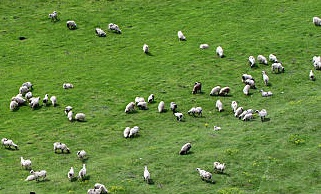sheep: (196, 166, 214, 186), (52, 142, 72, 155), (28, 95, 42, 112), (93, 25, 109, 39), (8, 100, 24, 114), (255, 108, 271, 122), (143, 164, 154, 184), (88, 182, 106, 194), (37, 168, 51, 183), (65, 18, 78, 34), (19, 80, 37, 91), (1, 138, 16, 151), (271, 62, 286, 75), (130, 126, 146, 138), (172, 110, 188, 122), (109, 22, 122, 36), (72, 110, 86, 123), (78, 165, 90, 180), (121, 124, 133, 139), (63, 105, 75, 120), (260, 71, 272, 86), (239, 74, 255, 85), (61, 82, 78, 92), (212, 99, 225, 112), (77, 149, 91, 161), (156, 100, 167, 115), (306, 68, 321, 79), (11, 96, 29, 105), (19, 157, 31, 170), (242, 111, 255, 123), (50, 11, 61, 25), (143, 42, 154, 56), (214, 160, 228, 171), (122, 103, 136, 114), (65, 167, 74, 183), (179, 142, 191, 154), (191, 81, 203, 93), (245, 54, 256, 67), (18, 86, 32, 96), (186, 106, 200, 116), (166, 100, 178, 111), (215, 46, 226, 58), (176, 30, 187, 42), (199, 42, 212, 52), (210, 86, 222, 96), (268, 51, 278, 63), (256, 54, 268, 64), (41, 94, 50, 107), (26, 171, 39, 180), (230, 100, 239, 113), (262, 89, 275, 98), (135, 101, 146, 111), (234, 106, 243, 118), (242, 85, 251, 97), (49, 96, 58, 106), (132, 97, 147, 103), (145, 93, 155, 102), (312, 55, 321, 65), (219, 88, 230, 96), (312, 15, 321, 24)
